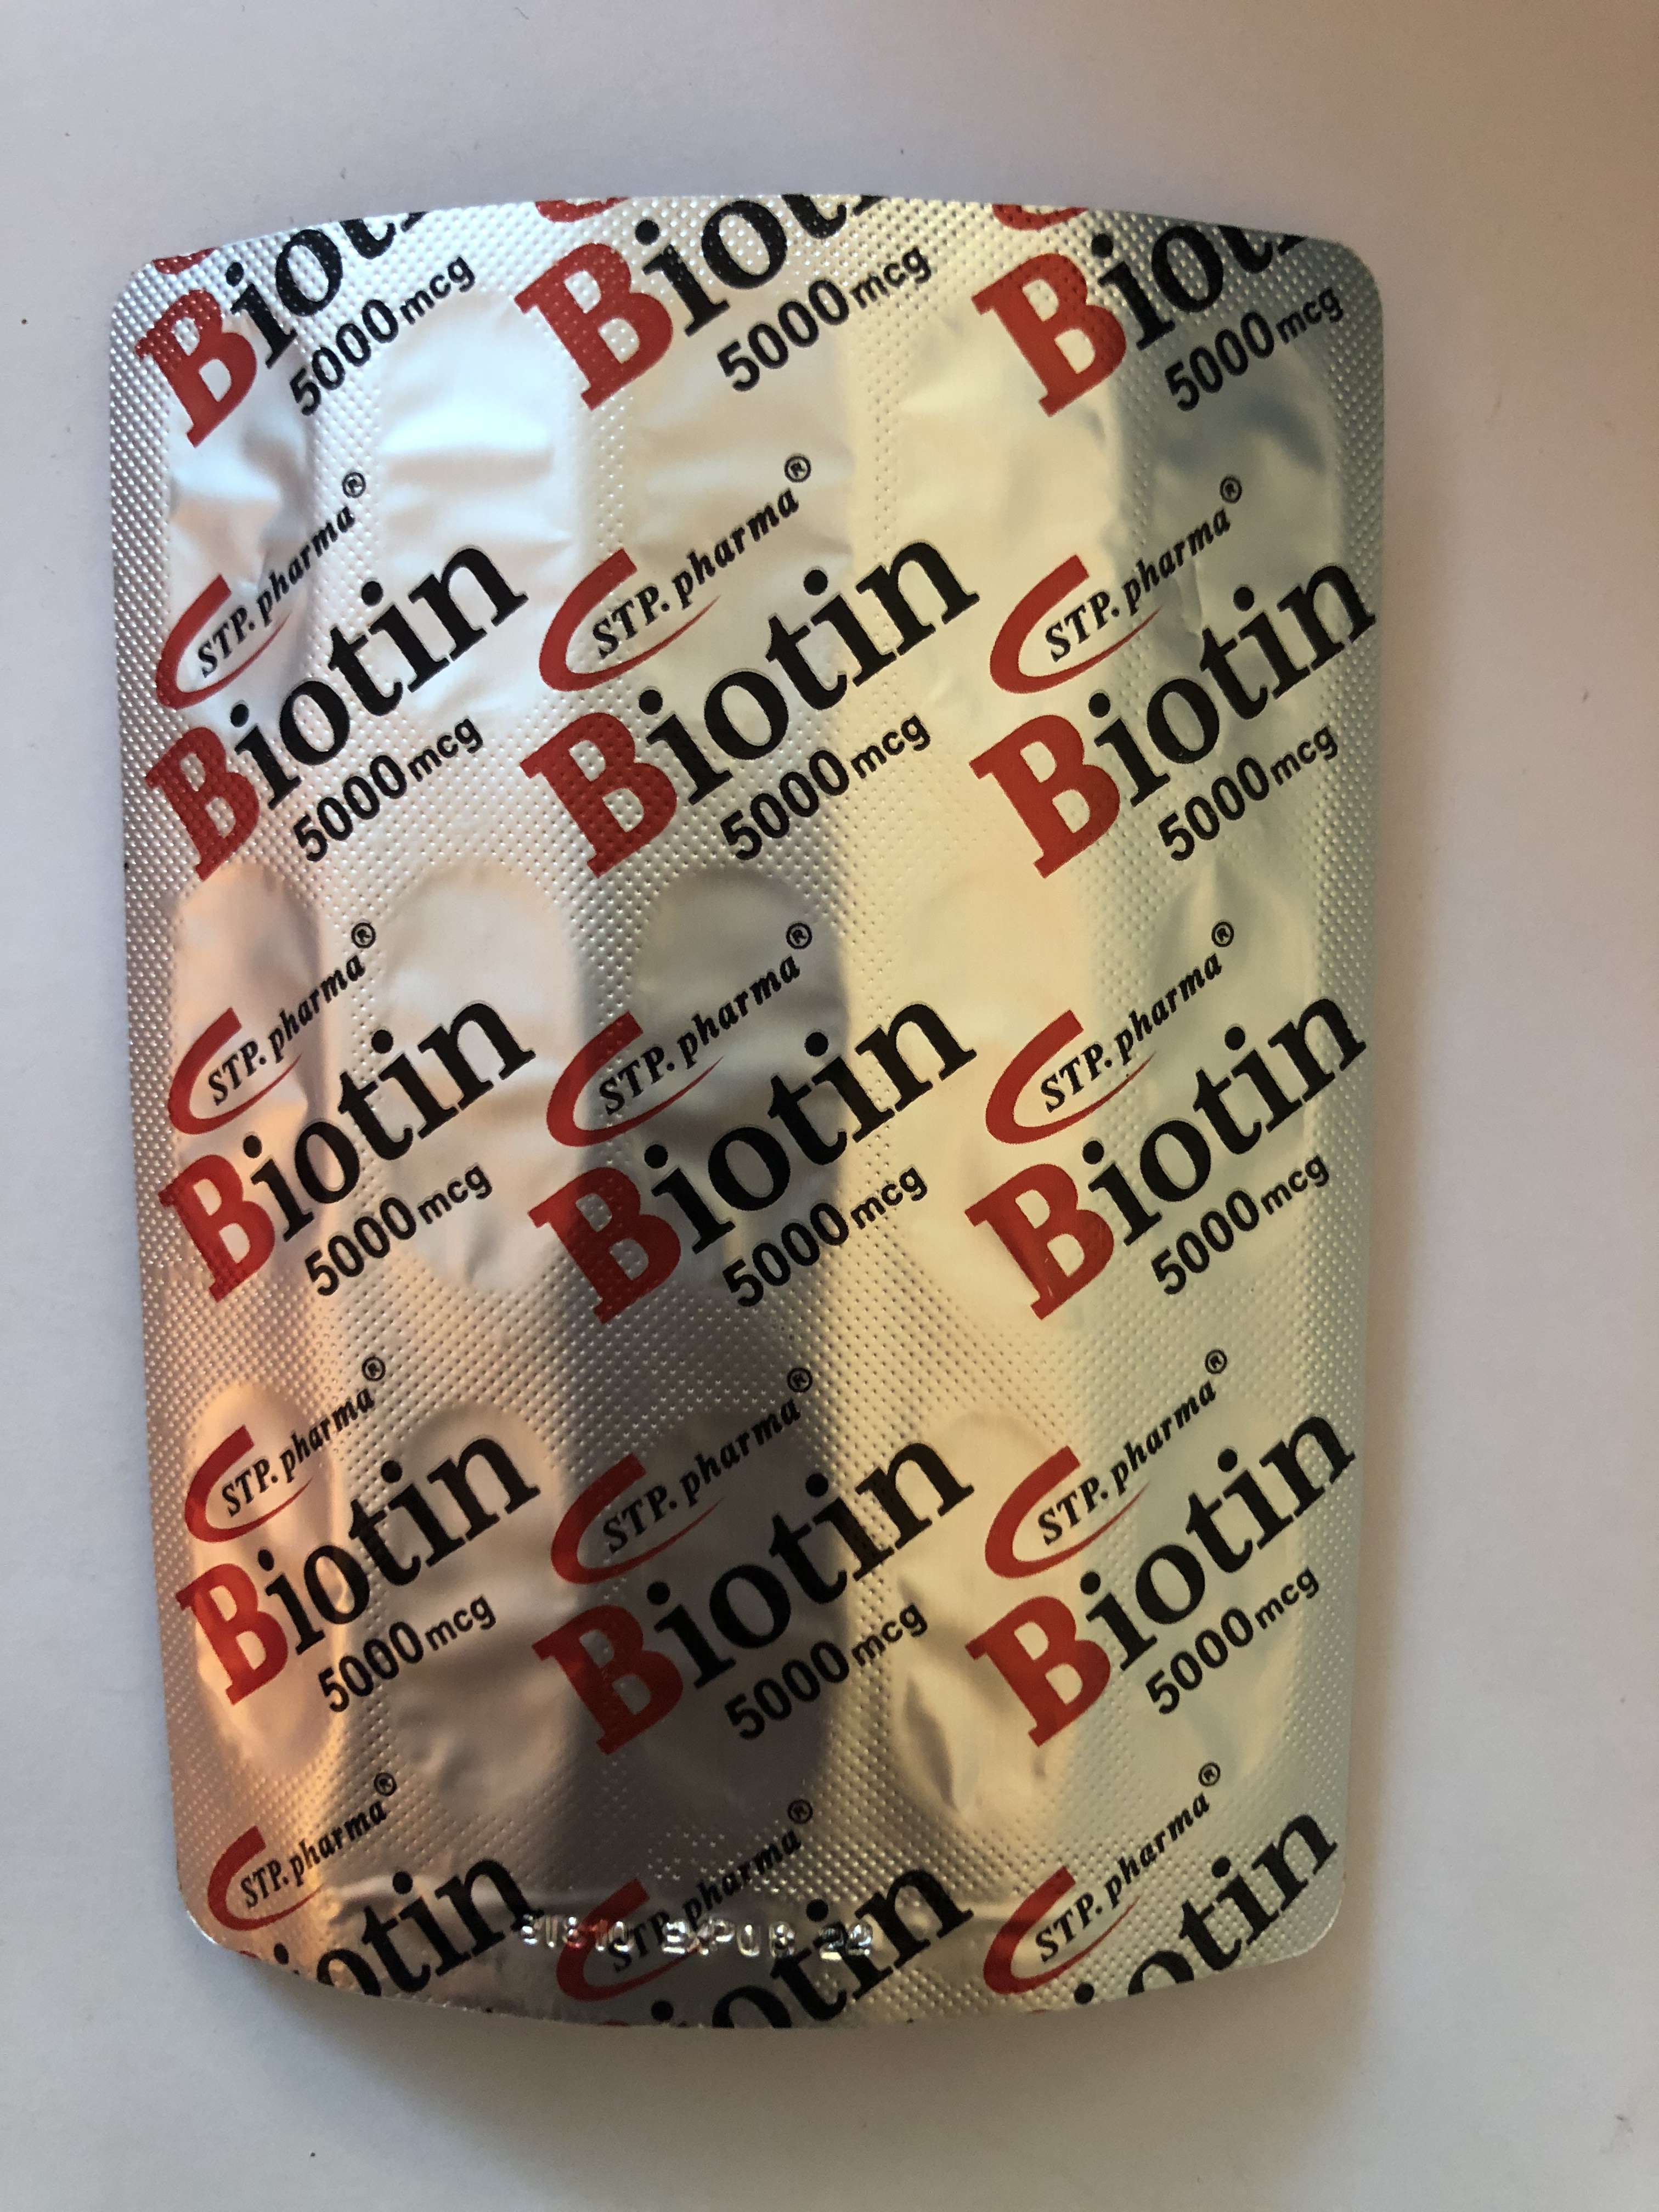Medicine name: (525, 991, 983, 1341)
